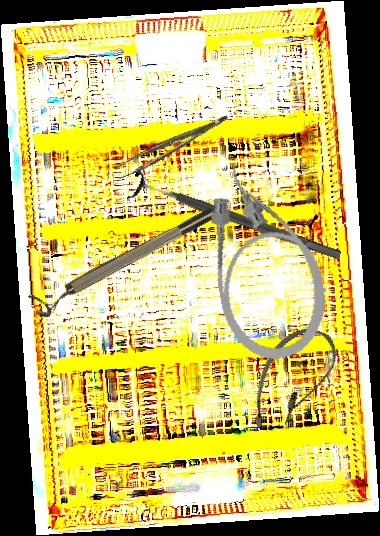Cannula: (197, 151, 335, 368), (241, 316, 345, 447)
Fixation Ring: (28, 203, 222, 322), (126, 168, 346, 272)
Tissue Forceps: (110, 115, 235, 180)
